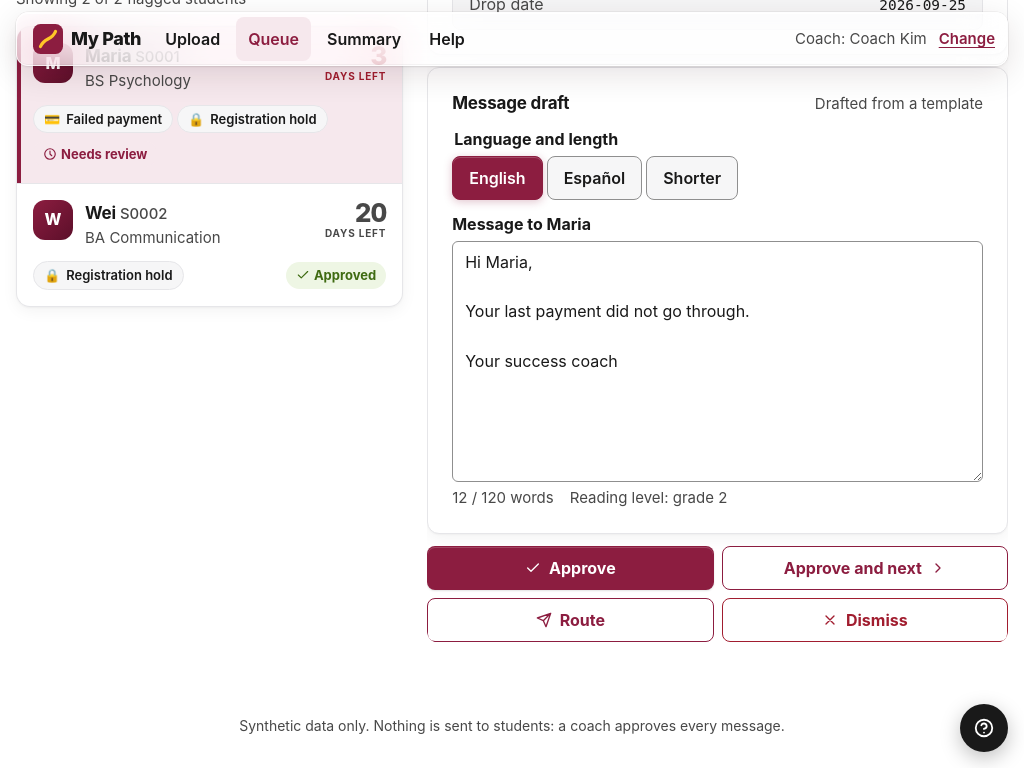
Test: FlagDetailPage › requires a reason to dismiss
(page scrolled)
Click the button "Dismiss": click(865, 620) [722,598,1008,642]
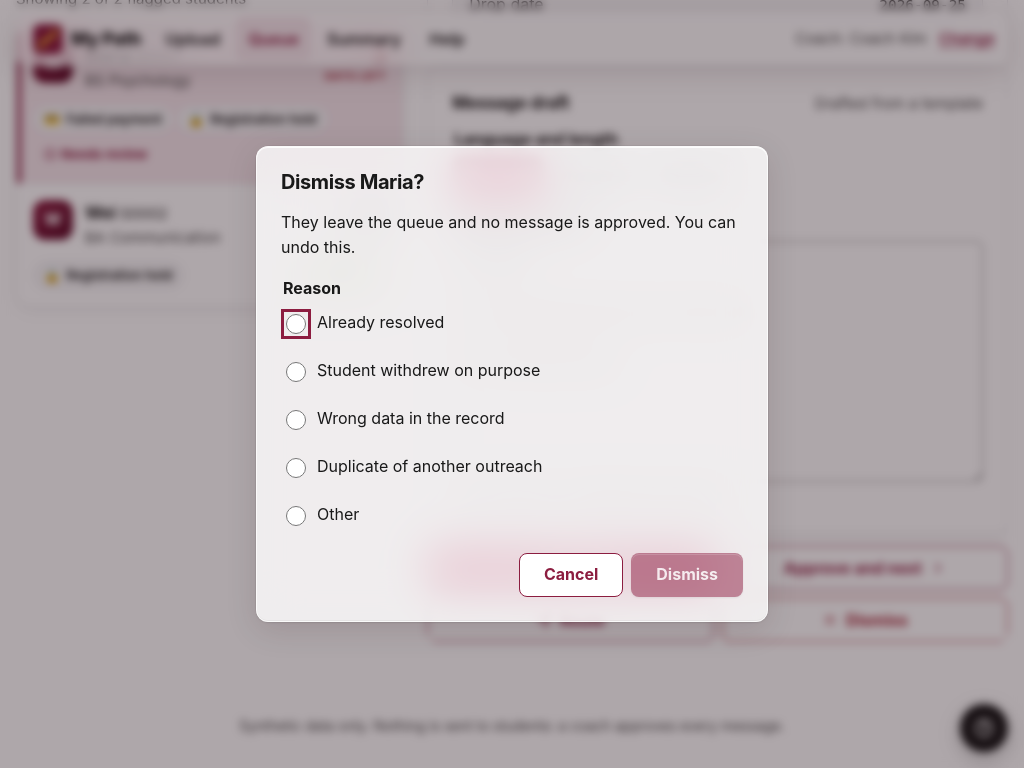
Result: the button "Dismiss" is disabled at [631,553,743,597]
Click the radio button labelled "Other": click(296, 516) [286,506,306,526]
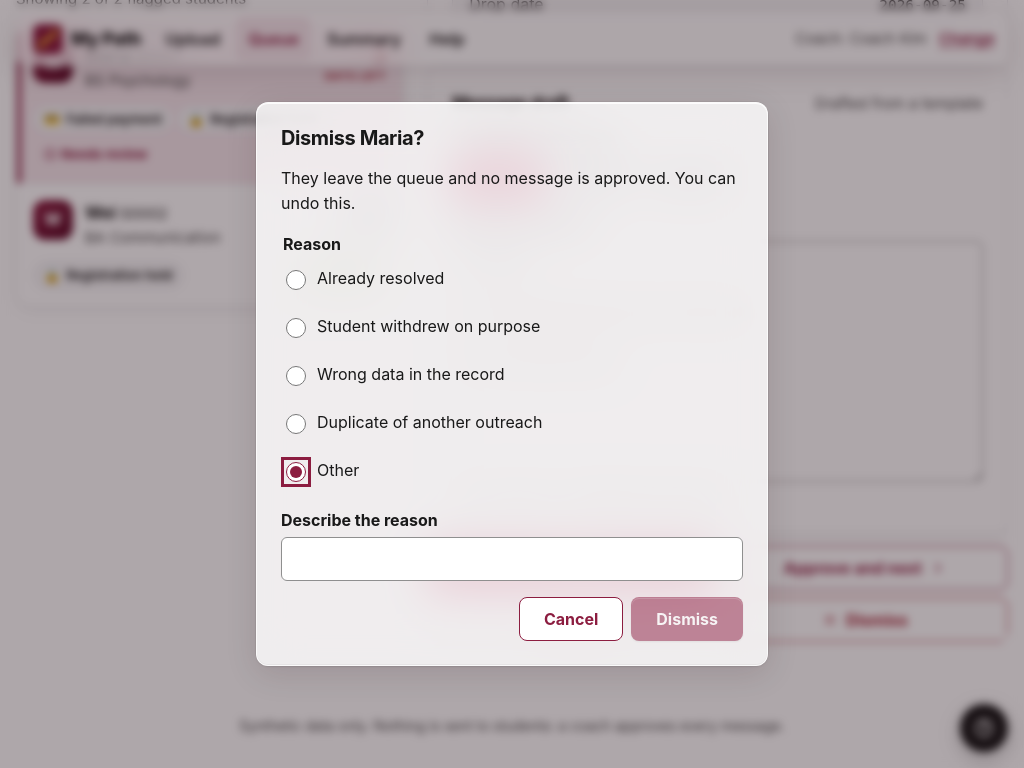
In the field labelled "Describe the reason": (512, 559) [281,537,743,581], type "Paid by phone"
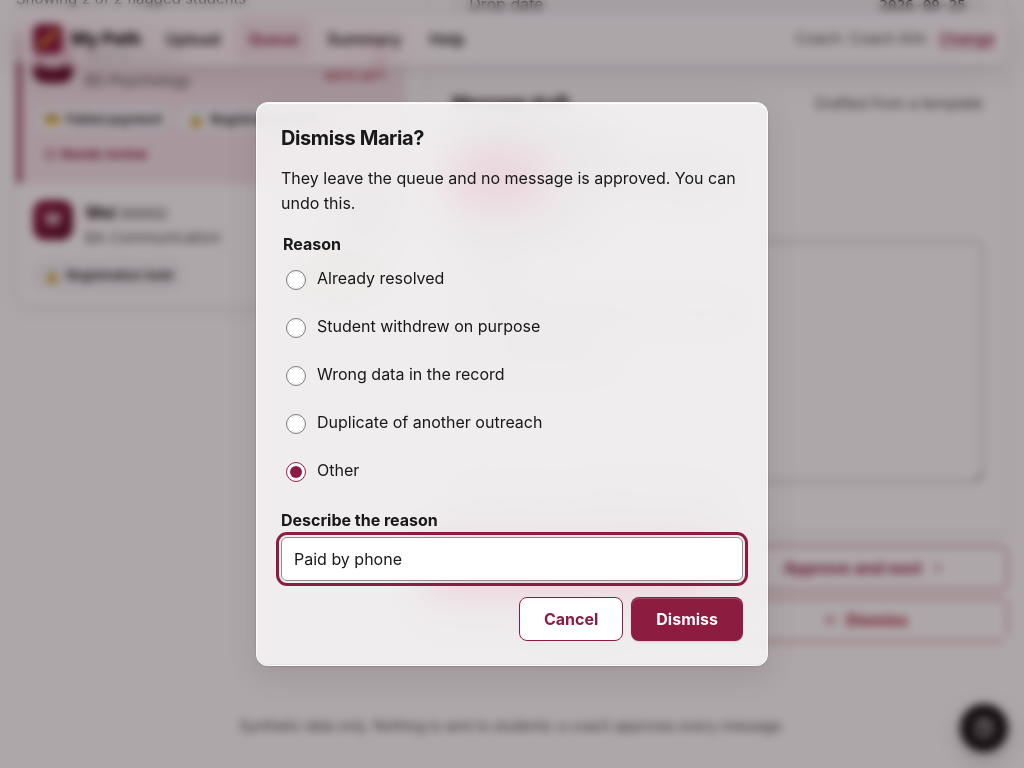
Click the button "Dismiss": click(687, 619) [631,597,743,641]
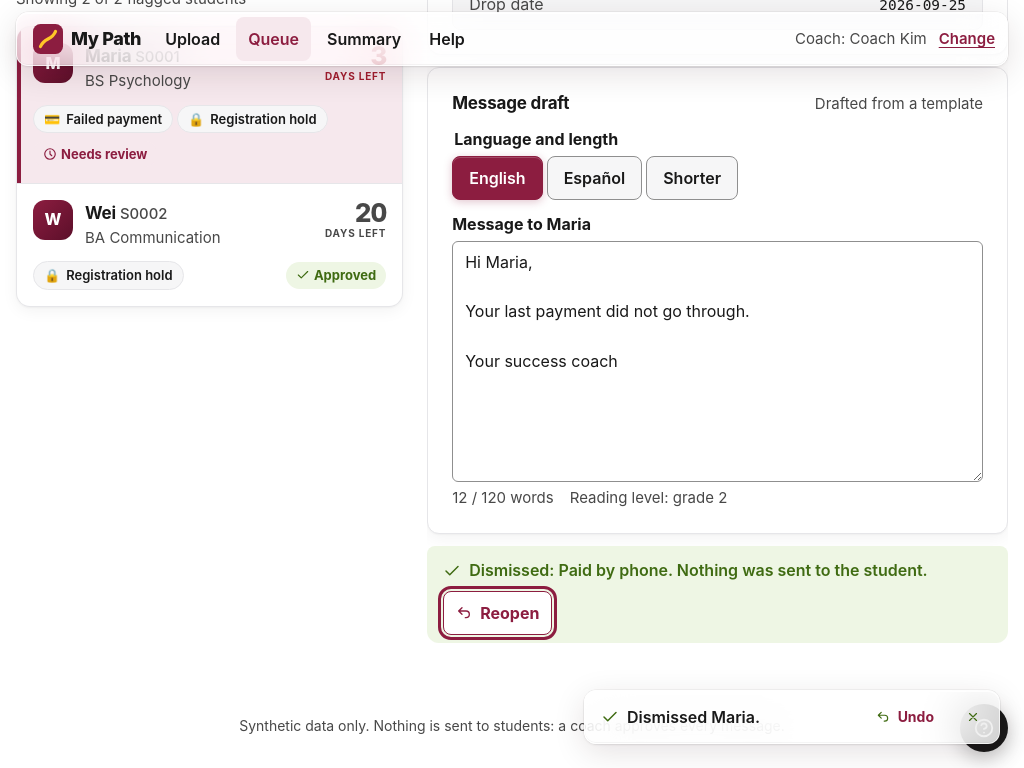
Result: the text "Dismissed: Paid by phone. Nothing was sent to the student." is shown at [443,558,928,583]
